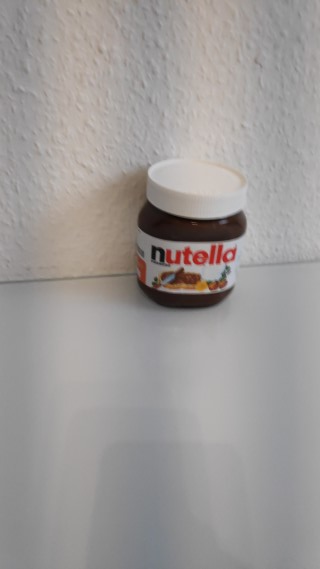nutella: (132, 155, 250, 310)
